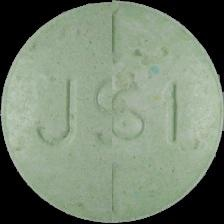50436-5500: (0, 0, 224, 224)
